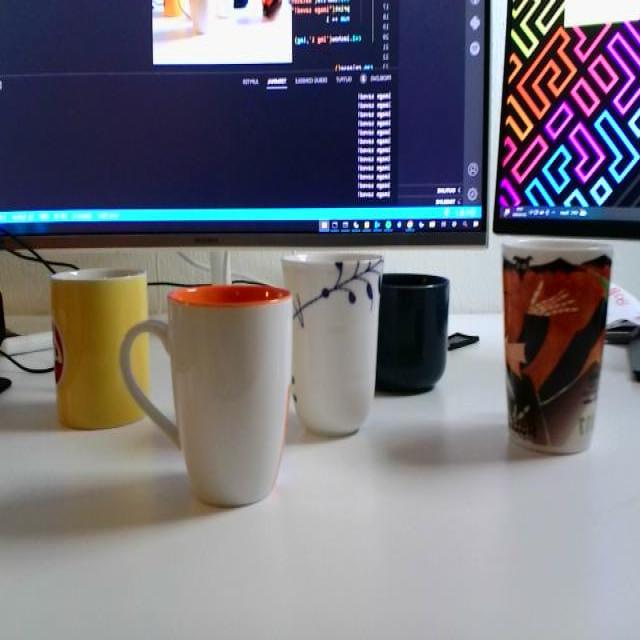cup: (120, 278, 300, 515), (490, 230, 620, 463), (278, 224, 392, 458), (43, 258, 155, 430), (374, 255, 456, 398)
